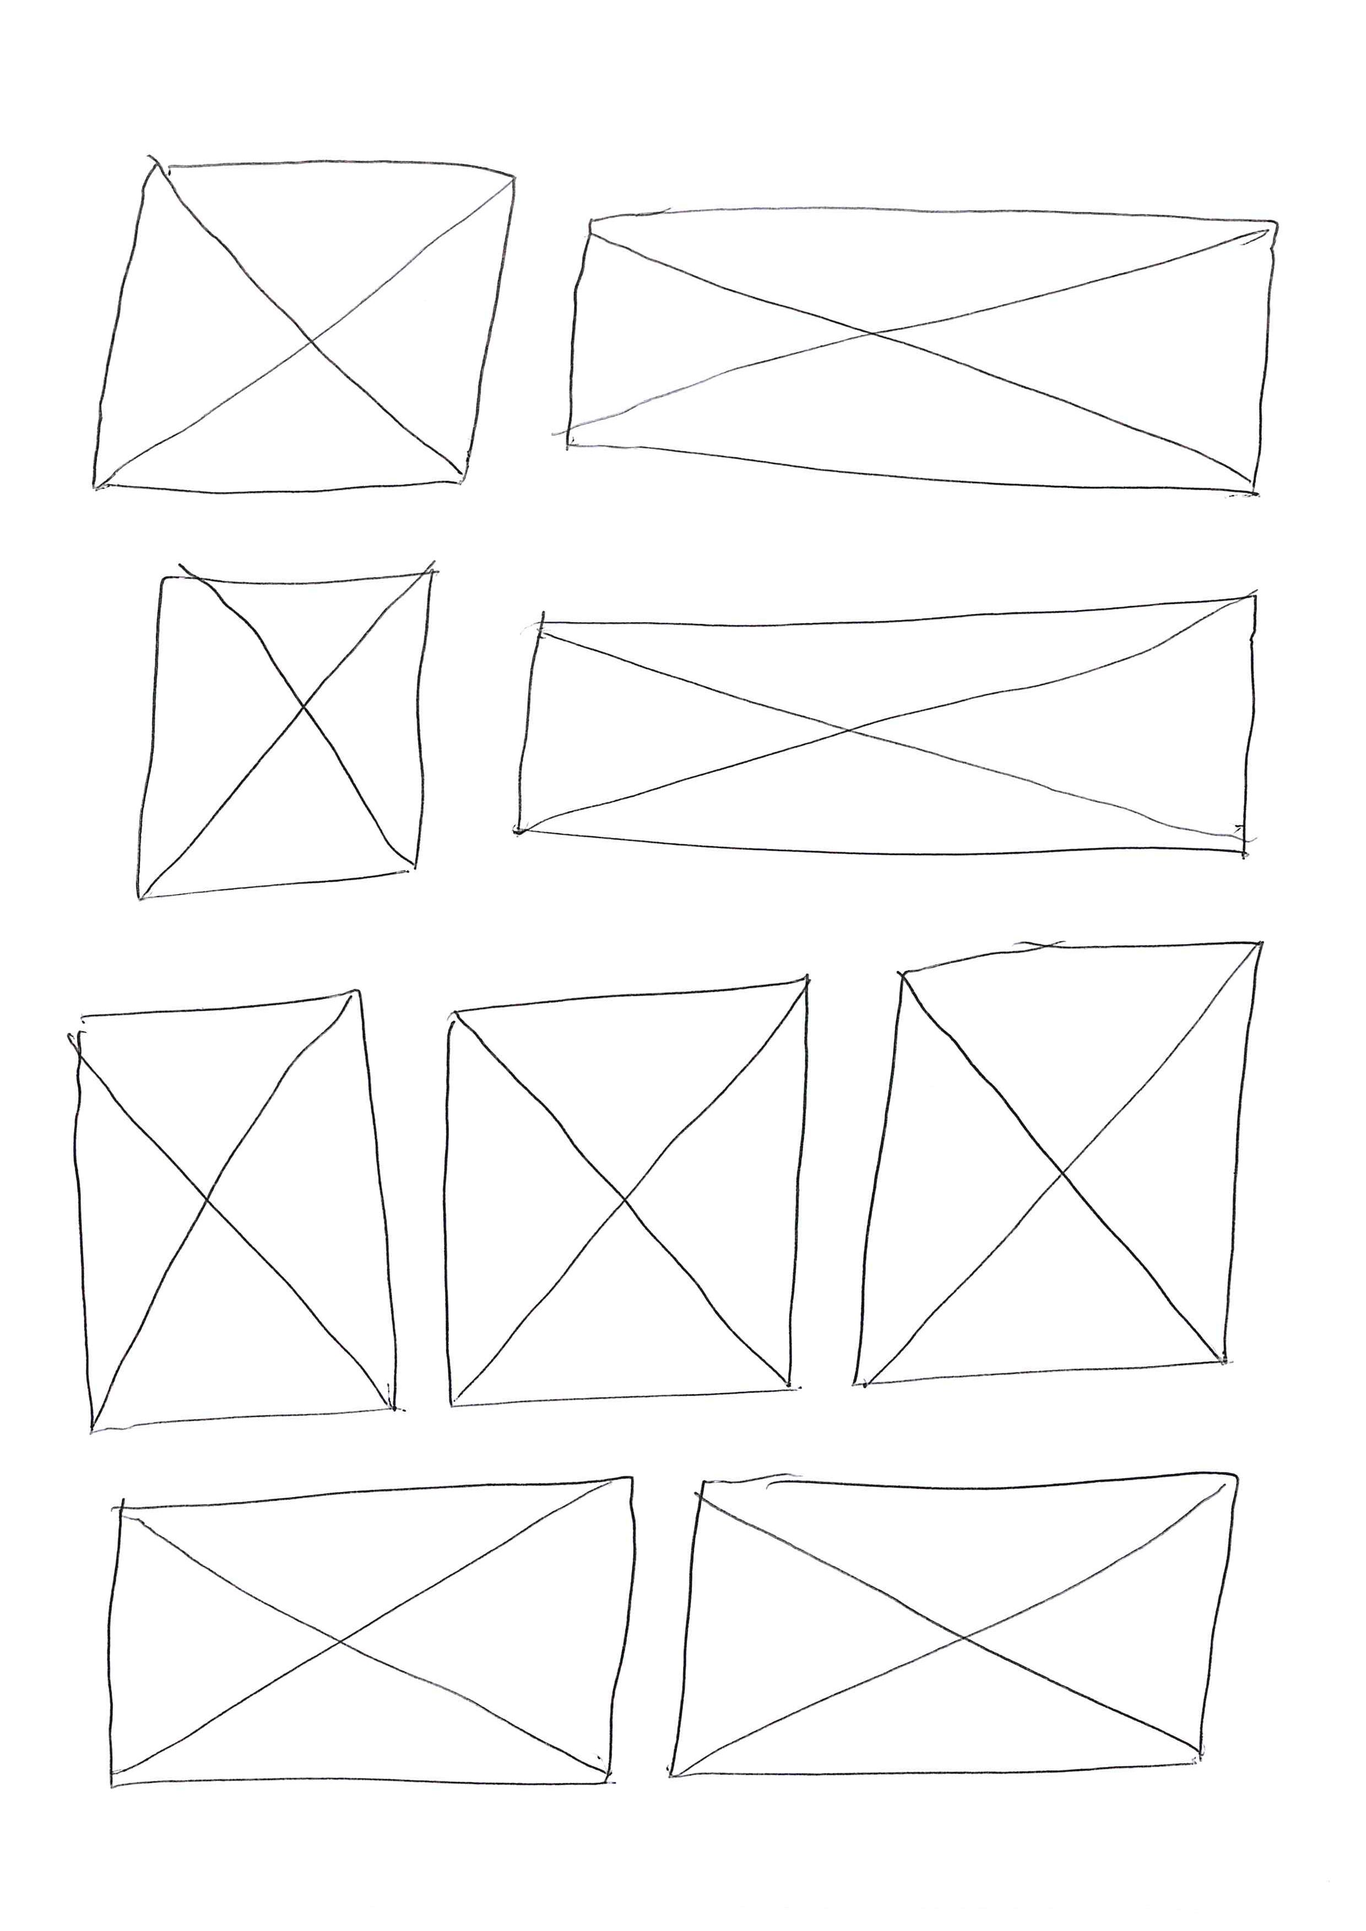Image: (556, 204, 1279, 504), (512, 590, 1264, 861), (849, 937, 1265, 1388), (664, 1467, 1242, 1782), (103, 1473, 640, 1792), (441, 974, 813, 1411), (71, 986, 401, 1436), (89, 157, 517, 495), (135, 562, 441, 902)
